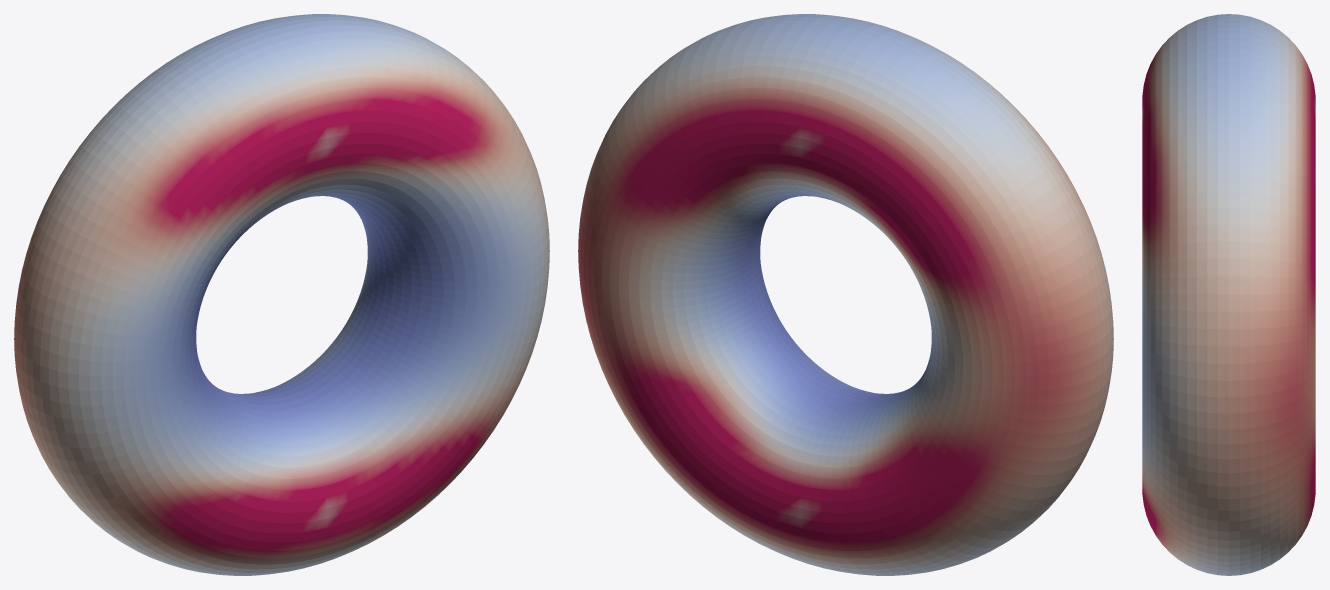
3 renders of one model, left to right at view 1: azimuth 30°, elevation 25°; view 2: azimuth 150°, elevation 25°; view 3: azimuth 270°, elevation 25°, orthographic. The views are drawn at different scales.
Visible parts, largest first — view 1: world; view 2: world; view 3: world.
Boxes of the visible parts, x1=… form: world: x1=14, y1=14, x2=549, y2=575; world: x1=578, y1=14, x2=1113, y2=575; world: x1=1142, y1=14, x2=1315, y2=575.
Size of the model in its own units: 20.89 by 20.89 by 6.43.
